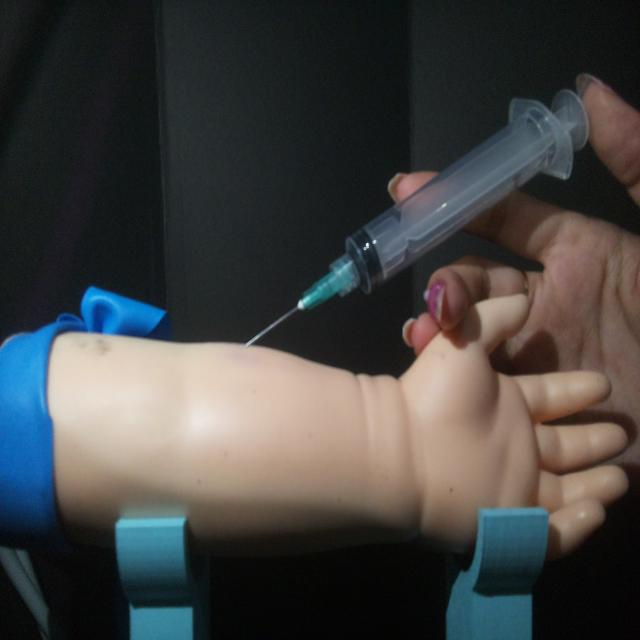30deg: (239, 82, 592, 351)
